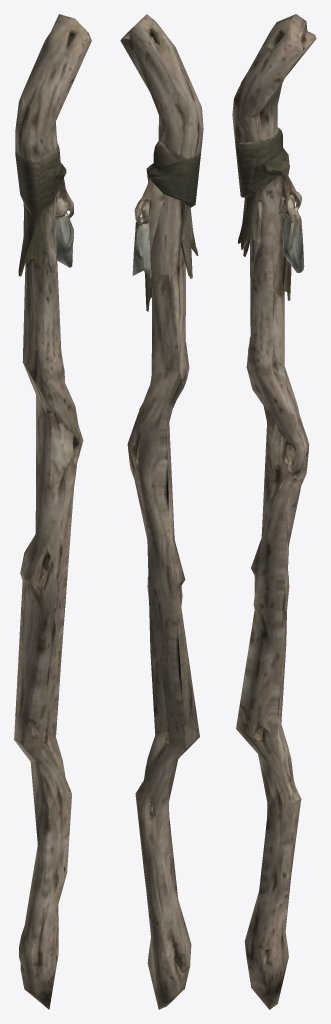
Rendered from staff-slim.glb.
The picture shows the model from 3 angles, left to right: view 1: azimuth 30°, elevation 25°; view 2: azimuth 150°, elevation 25°; view 3: azimuth 330°, elevation 25°; orthographic projection.
Parts seen in each view (by area): view 1: Mesh0; view 2: Mesh0; view 3: Mesh0.
Boxes of the visible parts, x1,y1,x2,y2 form: Mesh0: [14, 14, 91, 1009]; Mesh0: [120, 14, 203, 1009]; Mesh0: [232, 14, 316, 1009].
Size of the model in its own units: 0.0737 by 1 by 0.0492.
1 material, 1 textured.
